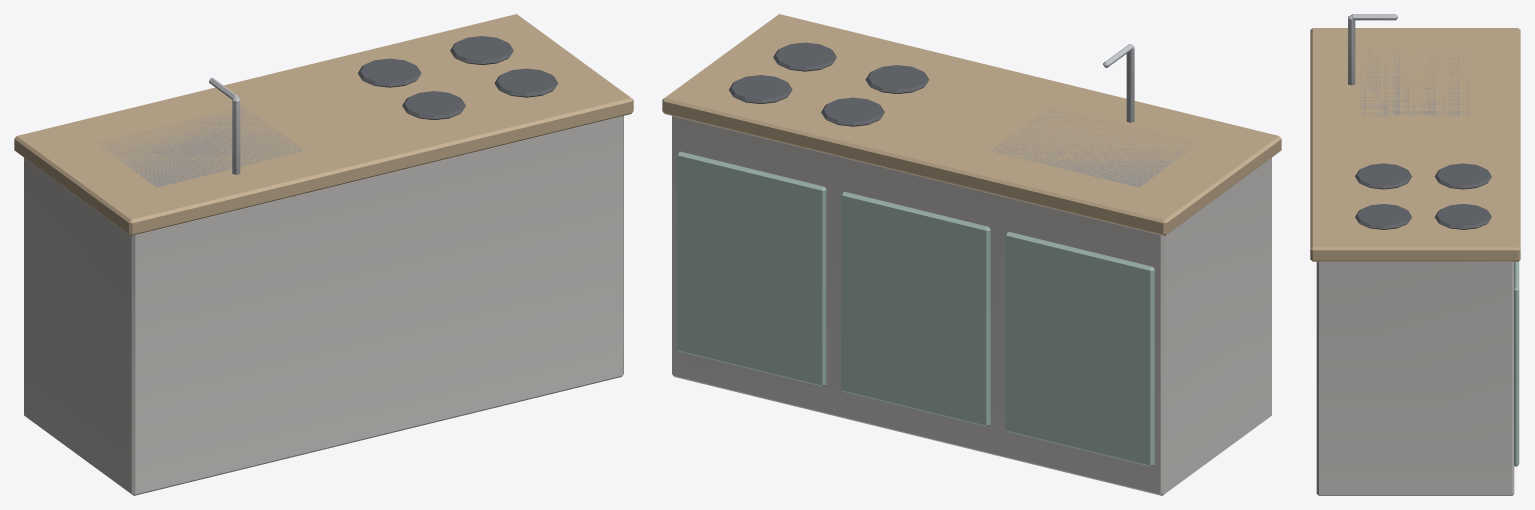
The model's file is furn_counter__white.glb.
The picture shows the model from 3 angles, left to right: view 1: azimuth 30°, elevation 25°; view 2: azimuth 150°, elevation 25°; view 3: azimuth 270°, elevation 25°; orthographic projection. The views are drawn at different scales.
Bounding box in the file's own units: 1.64 × 1.11 × 0.66.
